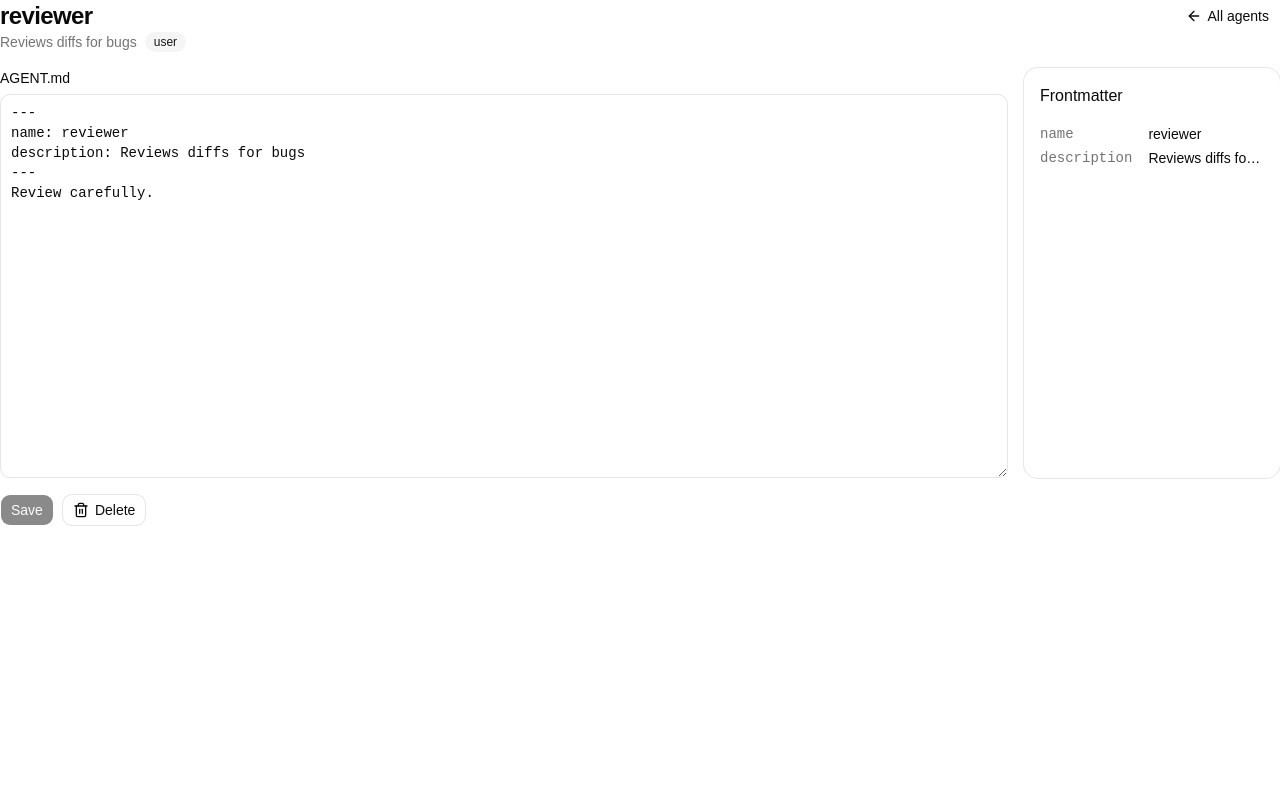
it: AgentEditor › deletes after confirmation and returns to the list
Click the button "Delete".
click(104, 510)  # box [62,494,146,526]
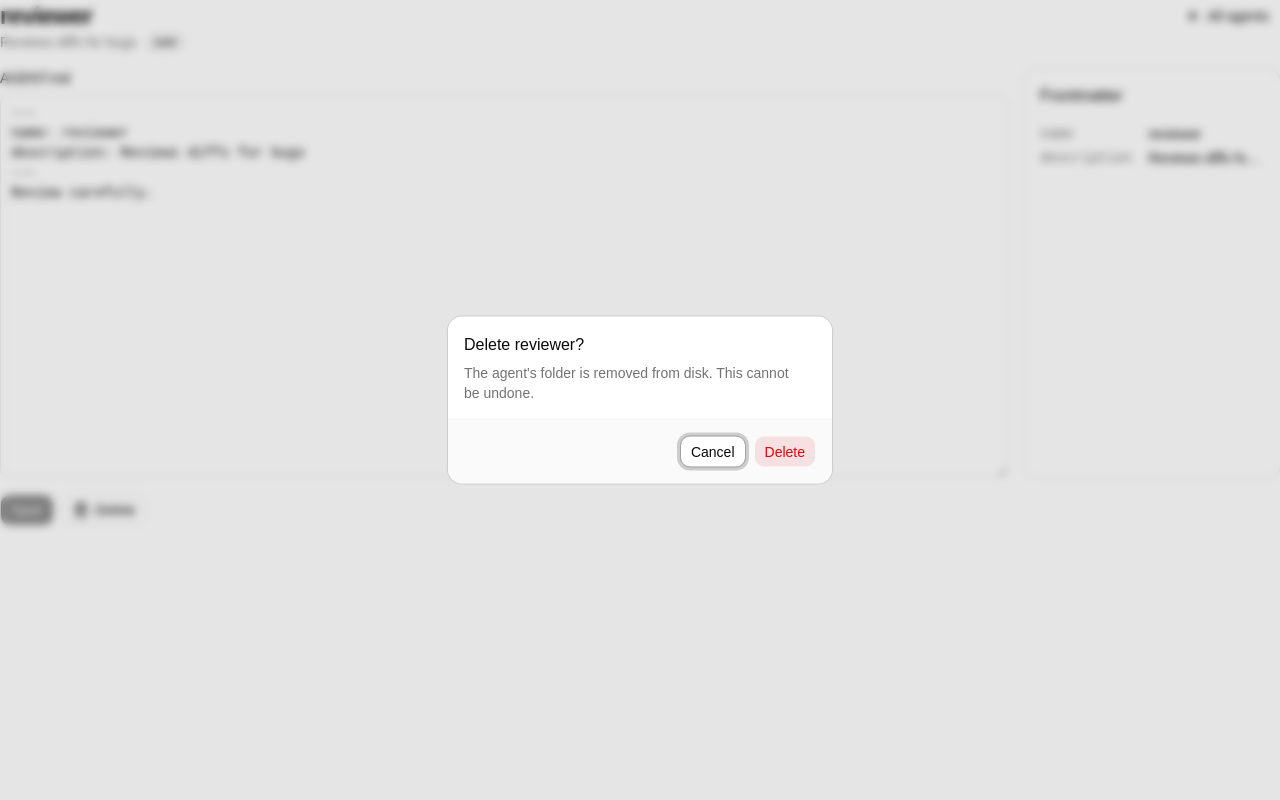
Click the button "Delete".
click(785, 452)  # box [754,436,816,468]
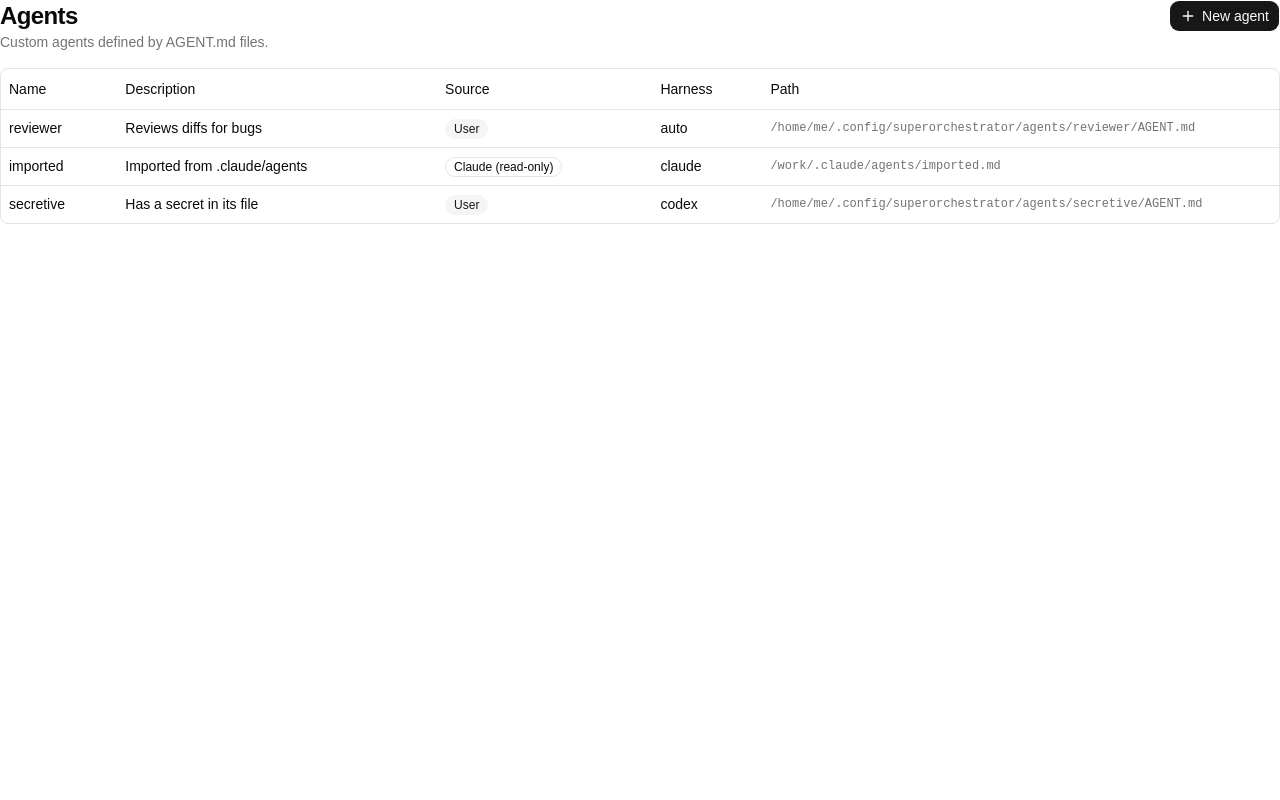
Expected: the heading "Agents" is shown, [0,2,78,29]
